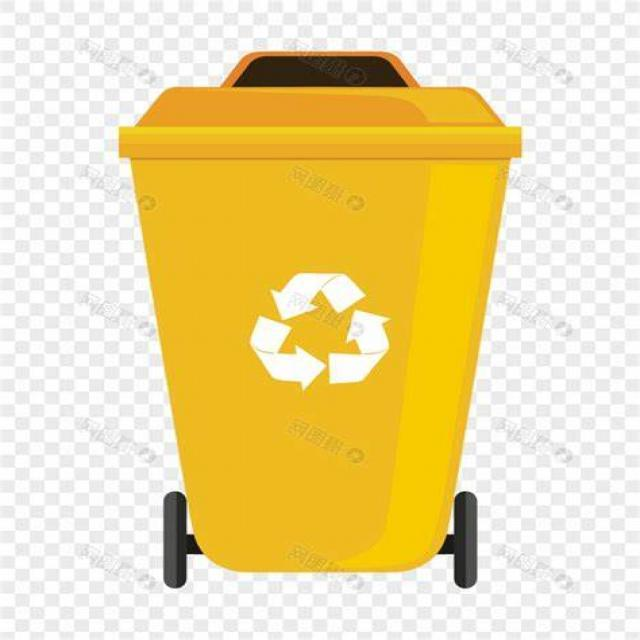garbage container: (101, 22, 538, 602)
